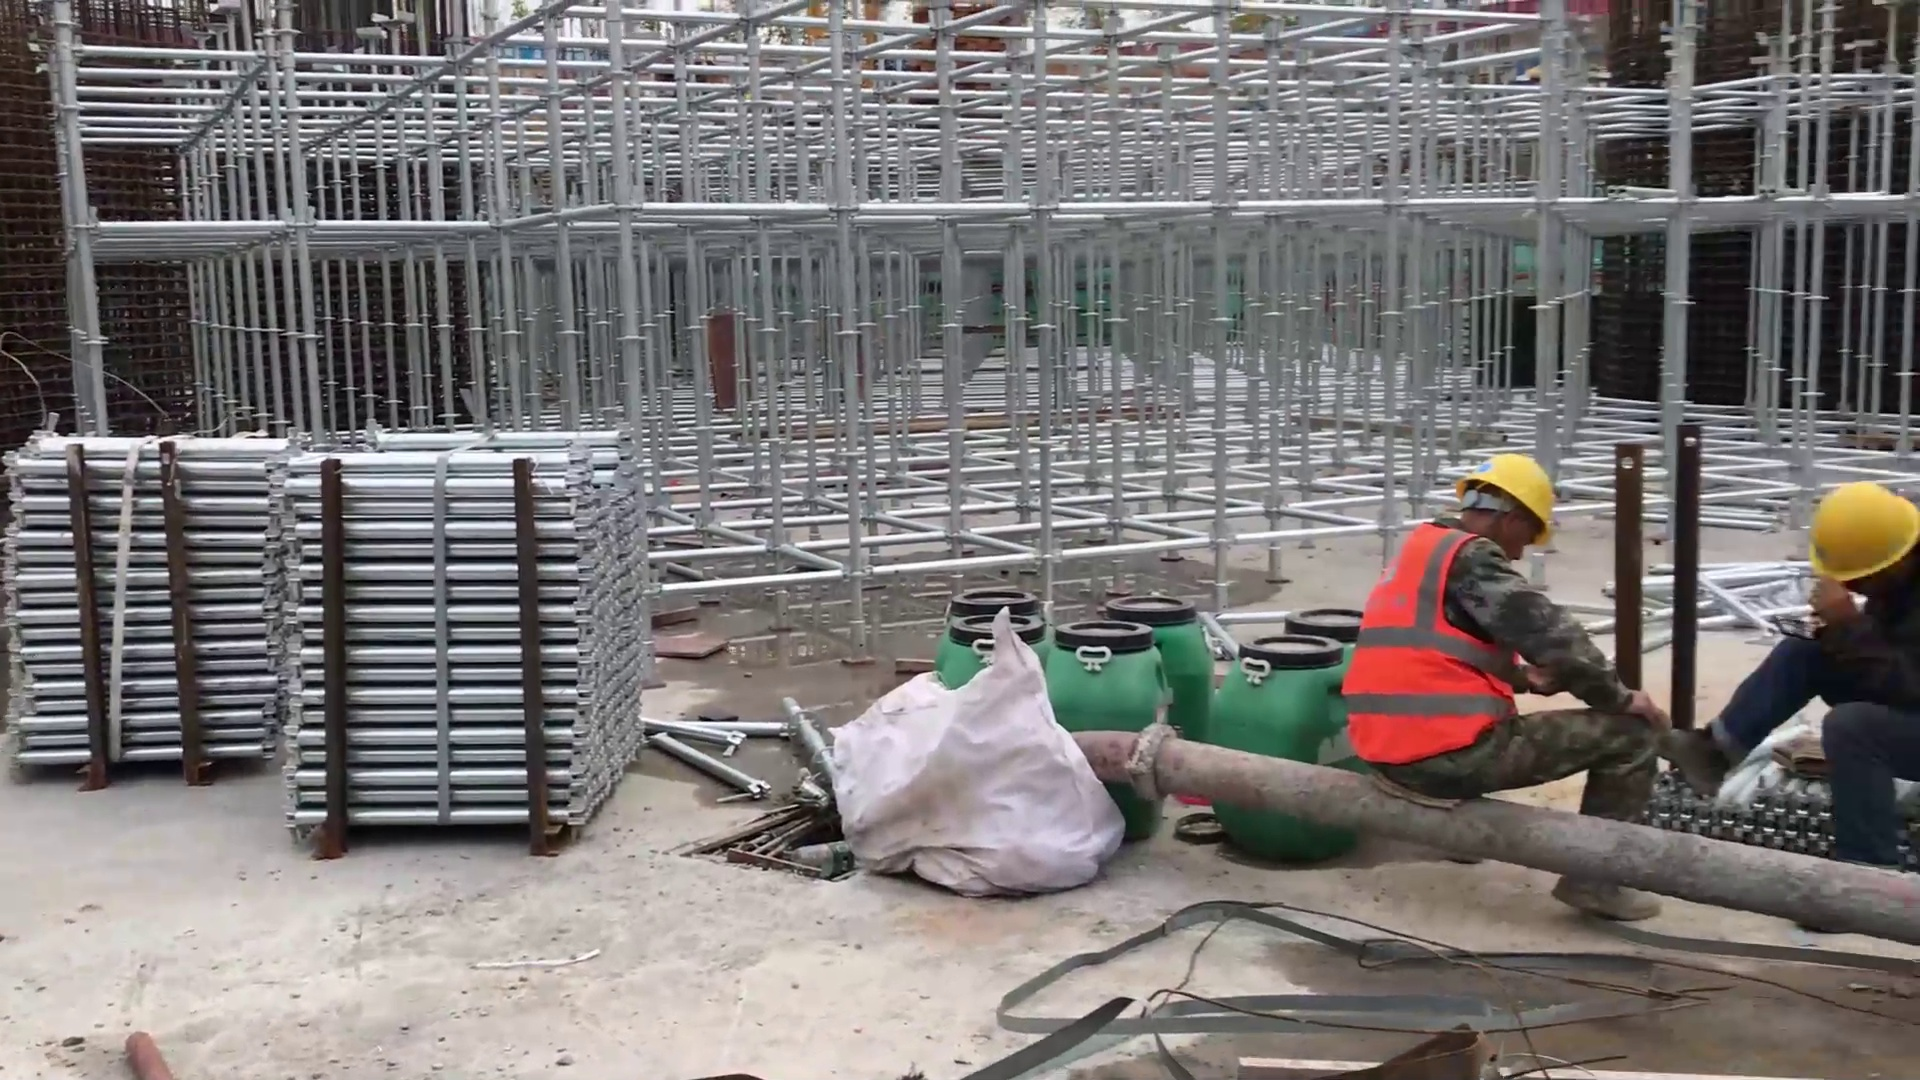helmet: (1805, 478, 1920, 587), (1455, 451, 1567, 549)
person: (1351, 446, 1680, 938), (1689, 476, 1920, 919)
scaffold: (280, 426, 664, 860), (19, 412, 286, 796)
vest: (1364, 516, 1517, 764)
